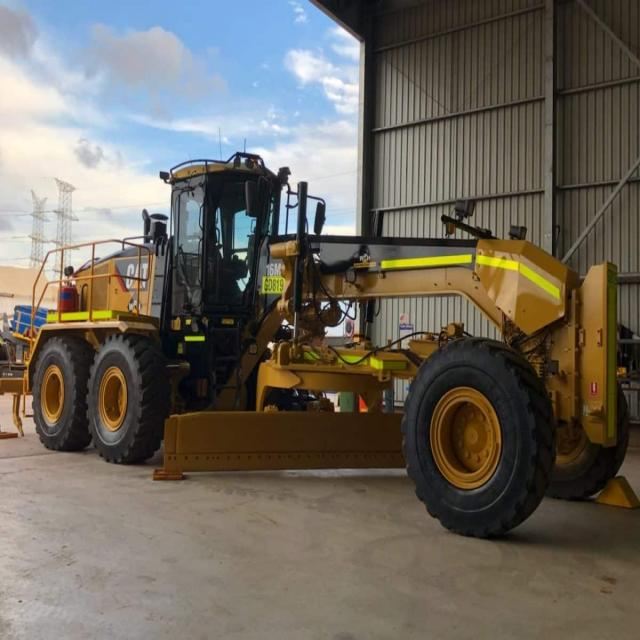Grader: (6, 129, 633, 545)
